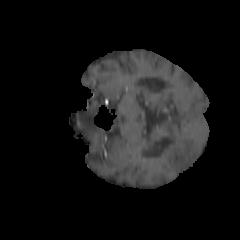glioma: (160, 137, 198, 173)
